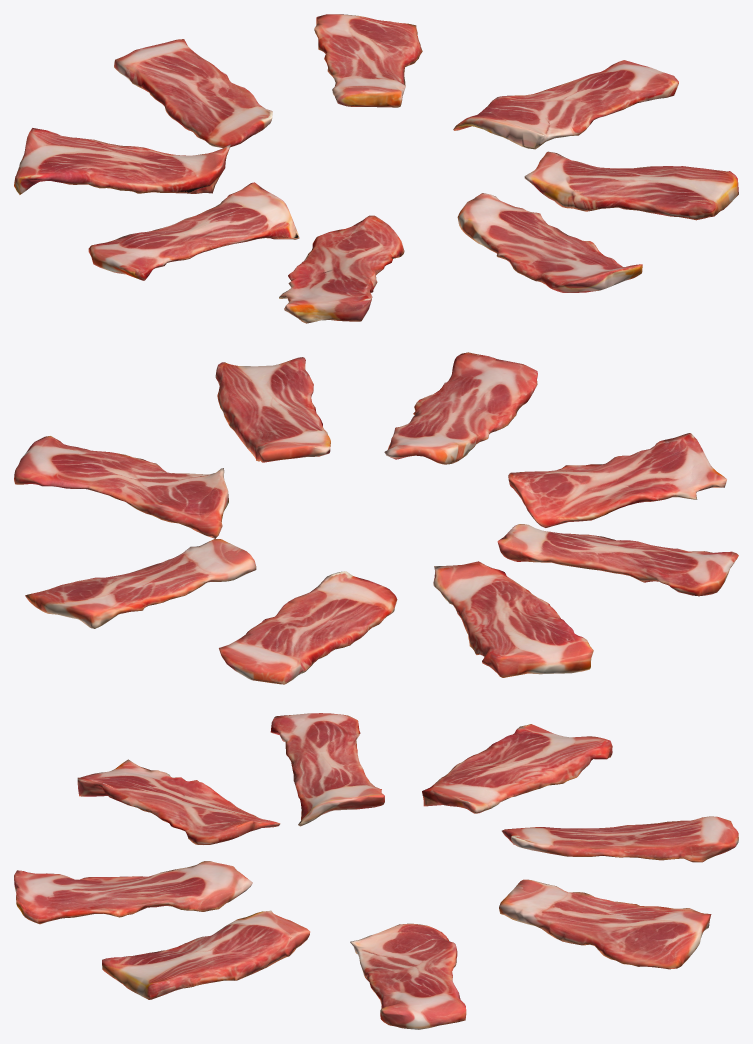
The model's file is fake_bacon_Circle_0620075315_texture.glb.
3 renders of one model, top to bottom at view 1: azimuth 30°, elevation 25°; view 2: azimuth 150°, elevation 25°; view 3: azimuth 270°, elevation 25°, orthographic. The views are drawn at different scales.
Size of the model in its own units: 1.99 by 0.1018 by 1.99.
Materials: 1 (1 with a texture image).
